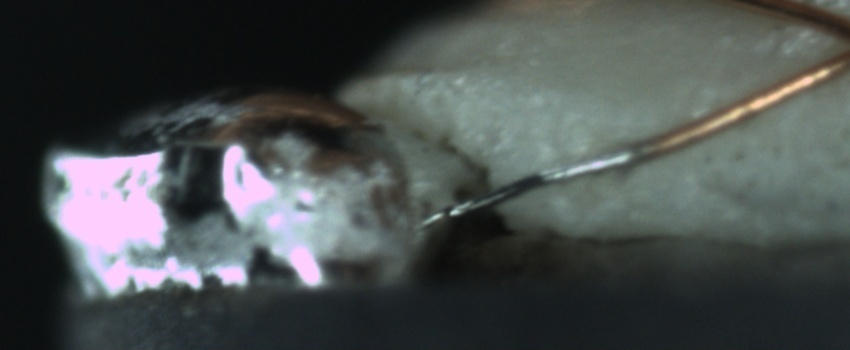TS: (404, 142, 633, 227)
TTCW: (409, 129, 670, 226)
